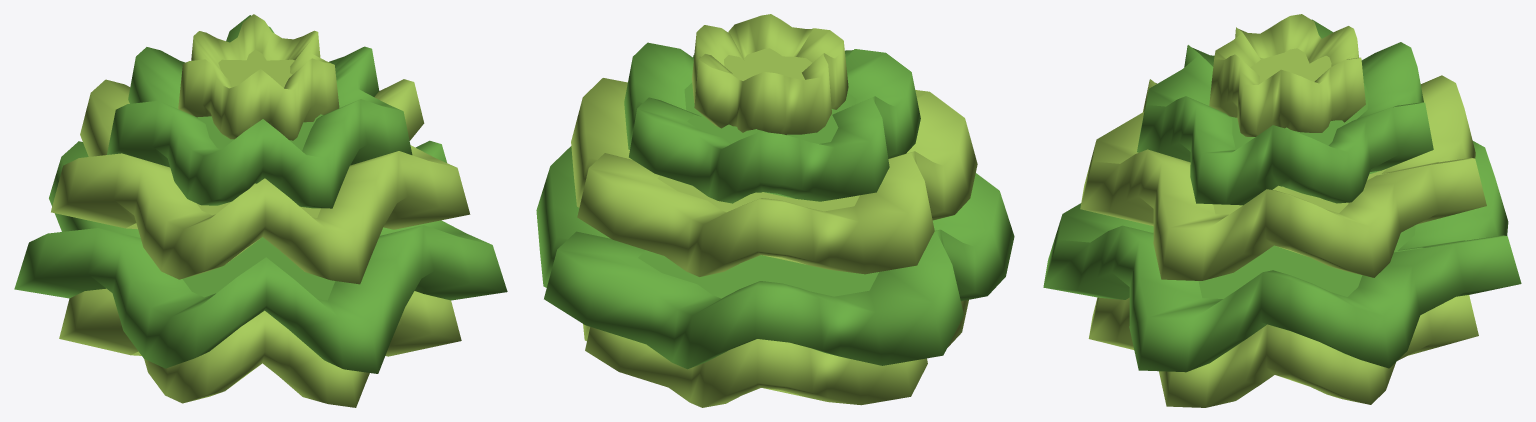
The model's file is lettuce_raw.glb.
3 renders of one model, left to right at view 1: azimuth 30°, elevation 25°; view 2: azimuth 150°, elevation 25°; view 3: azimuth 270°, elevation 25°, orthographic. The views are drawn at different scales.
Parts seen in each view (by area): view 1: Ruffled leaf.001, Ruffled leaf.002, Ruffled leaf.003, Ruffled leaf, Ruffled leaf.004; view 2: Ruffled leaf.001, Ruffled leaf.002, Ruffled leaf.003, Ruffled leaf.004, Ruffled leaf; view 3: Ruffled leaf.001, Ruffled leaf.002, Ruffled leaf.003, Ruffled leaf, Ruffled leaf.004.
Boxes of the visible parts, bbox=[...] form: Ruffled leaf.001: bbox=[14, 140, 507, 373]; Ruffled leaf.002: bbox=[51, 79, 470, 284]; Ruffled leaf.003: bbox=[107, 15, 412, 208]; Ruffled leaf: bbox=[59, 288, 461, 407]; Ruffled leaf.004: bbox=[178, 14, 339, 140]; Ruffled leaf.001: bbox=[536, 146, 1014, 369]; Ruffled leaf.002: bbox=[571, 78, 977, 276]; Ruffled leaf.003: bbox=[624, 42, 920, 203]; Ruffled leaf.004: bbox=[692, 14, 848, 134]; Ruffled leaf: bbox=[583, 300, 968, 407]; Ruffled leaf.001: bbox=[1043, 141, 1521, 372]; Ruffled leaf.002: bbox=[1080, 75, 1486, 280]; Ruffled leaf.003: bbox=[1137, 19, 1433, 205]; Ruffled leaf: bbox=[1088, 295, 1478, 407]; Ruffled leaf.004: bbox=[1209, 14, 1365, 136].
Size of the model in its own units: 0.3867 by 0.2792 by 0.3845.
